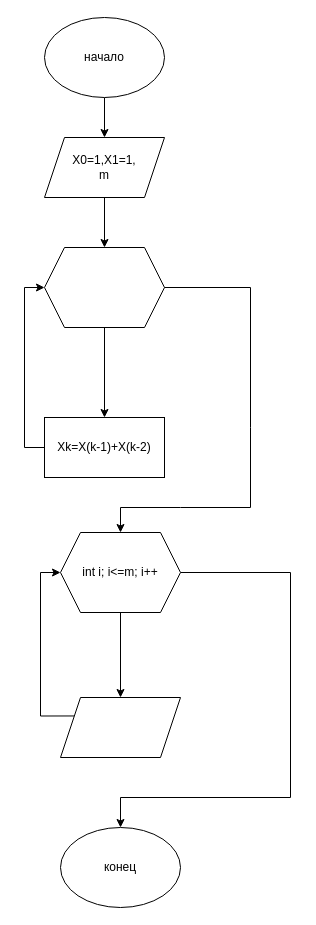
Some shapes in this 316 by 925 pixel diagram are drawn without their labels. The shapes that lost their labels are listed below. From the top down, each one's centre as x and y in pixels, then its label:
At point (104, 287): "int k=2; k<=m ;k++".
At point (120, 727): "Xi".
